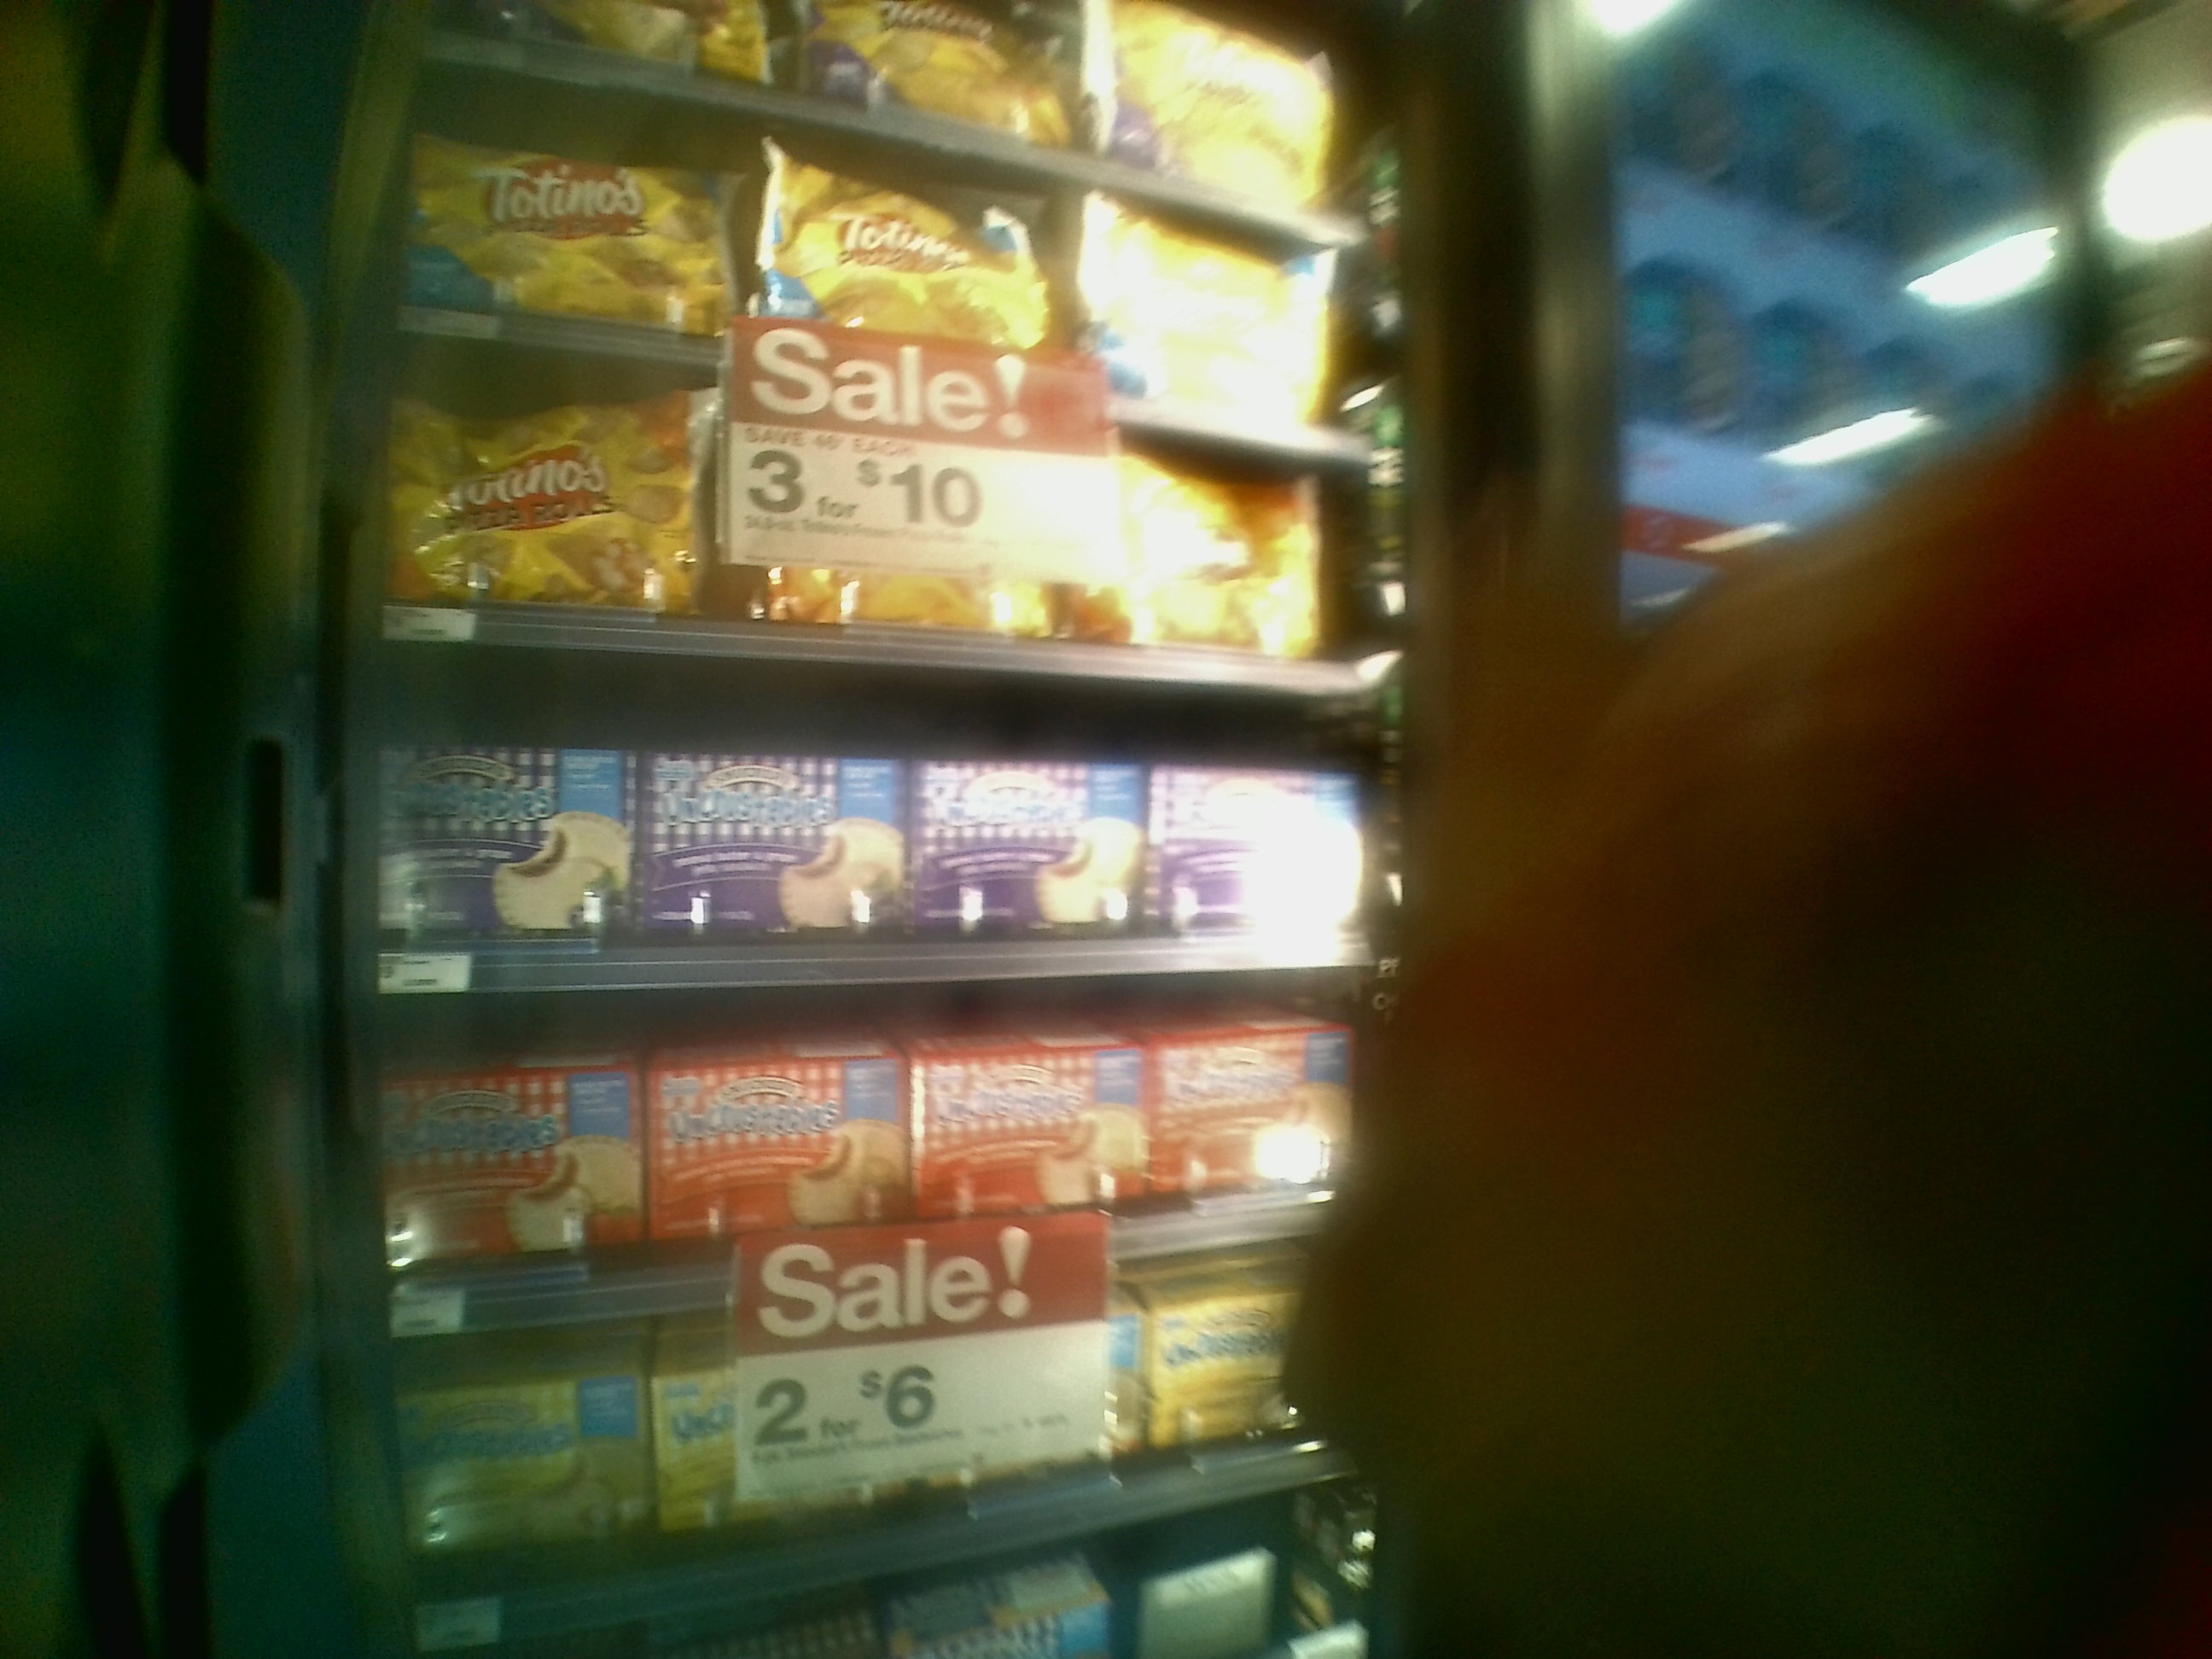shelf: (345, 647, 1399, 988), (336, 971, 1379, 1276)
